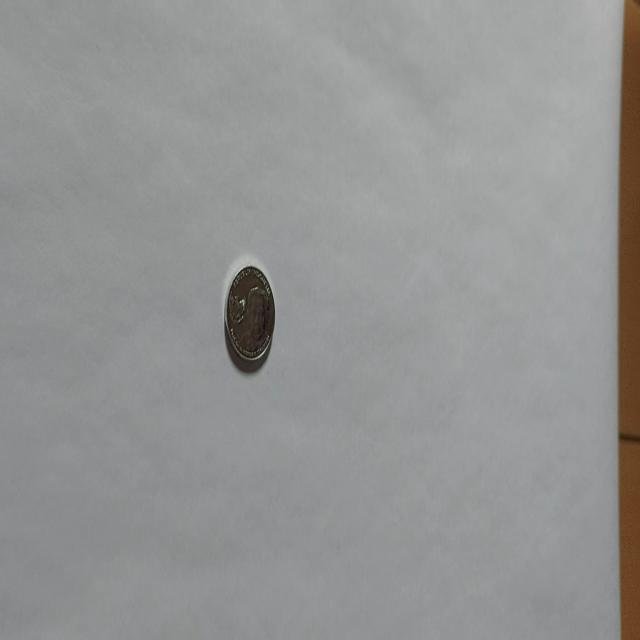seratus rupiah: (222, 263, 276, 372)
